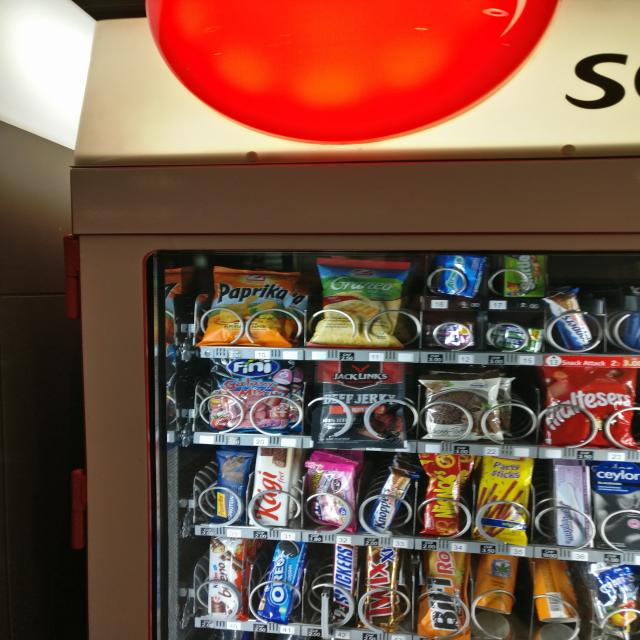airwaves_menthoneucalyptus_riegel_14_1_50173167: (428, 250, 488, 301)
bifi_roll__50__4251097402635: (420, 548, 473, 638)
bueno___43__4008400320328: (207, 534, 248, 621)
c-swiss_dosenabisicetea__33__9120025930135: (529, 557, 582, 623), (476, 550, 518, 614)
caprisun_multivitamin__20__4000177605004: (590, 561, 640, 638)
fini_galaxymix_packung_100_1_8410525150364: (211, 355, 290, 433)
fini_jellykisses_packung_80_1_8410525116704: (305, 458, 358, 531)
jacklinks_beefjerkyorginal__25__4047751730219: (312, 360, 408, 446)
kagi___50__7610046000259: (252, 444, 291, 524)
knoppers_riegel____4035800488808: (543, 285, 597, 352), (369, 467, 416, 534)
lorenz_nicnacs__40__4018077798818: (418, 452, 465, 538)
malburner_partysticks__40__7610200279682: (479, 455, 531, 545)
maltesers___100__5000159023061: (544, 362, 638, 445)
oreo___66__84100733: (252, 540, 312, 619)
powerbar_proteinplusschoko__55__4029679520028: (214, 448, 253, 525)
skittles_sour_riegel_51_1_0000000000004: (504, 251, 545, 298)
snickers___50__5000159461122: (330, 539, 361, 627)
stimorol_spearmint_riegel_14_1_0000000000005: (492, 324, 544, 354)
stimorol_wildcherry_riegel_14_1_57060330: (428, 318, 473, 348)
twix___50__5000159459228: (361, 544, 399, 632)
zweifel_graneochilli__100__7610095184009: (314, 255, 404, 348)
zweifel_paprika__90__7610095013002: (204, 266, 293, 346)
